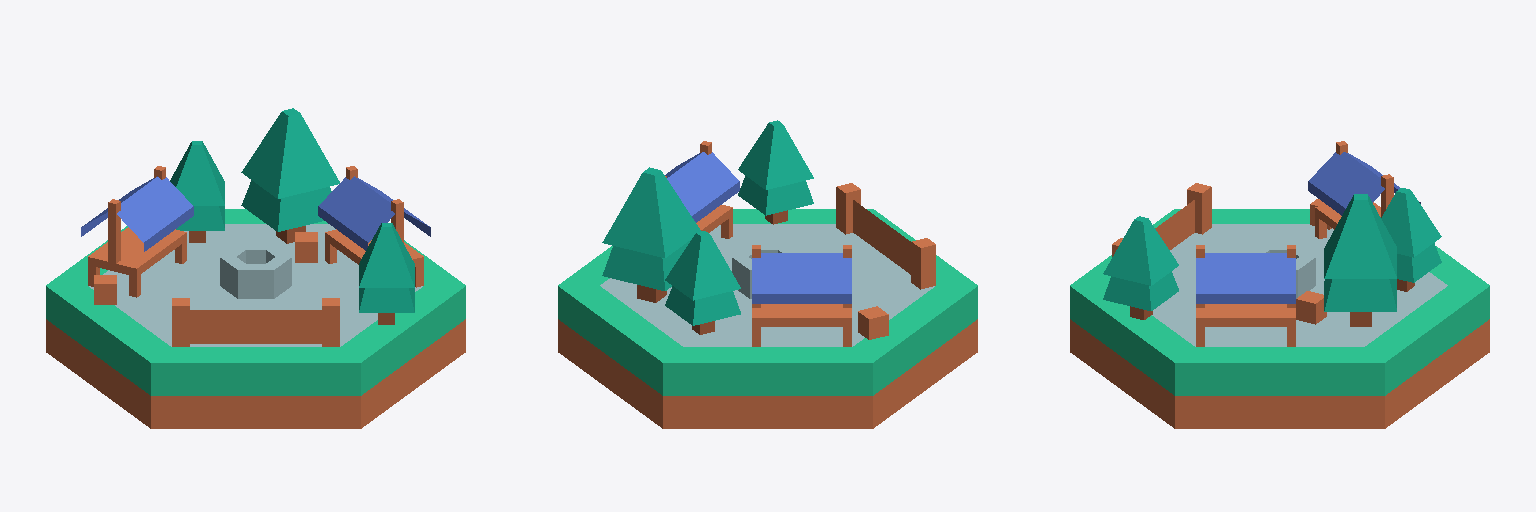
Rendered from building_market.obj.
3 views of the same model, side by side, from view 1: azimuth 30°, elevation 25°; view 2: azimuth 150°, elevation 25°; view 3: azimuth 270°, elevation 25° (orthographic).
Parts seen in each view (by area): view 1: building_market, tree, stall, fence, well, crate; view 2: building_market, tree, stall, fence, well, crate; view 3: building_market, tree, stall, fence, well, crate.
Part boxes in pixels (x1,y1,x2,y2): building_market: (46,209,465,428); tree: (170,108,414,324); stall: (81,166,430,297); fence: (172,298,339,346); well: (220,243,291,298); crate: (94,232,317,304); building_market: (558,209,977,428); tree: (602,120,813,334); stall: (665,141,851,346); fence: (836,183,935,289); well: (732,243,798,298); crate: (858,306,888,339); building_market: (1070,209,1489,428); tree: (1103,188,1441,326); stall: (1196,141,1420,346); fence: (1112,183,1211,256); well: (1249,243,1315,298); crate: (1296,199,1331,324).
Bounding box in the file's own units: 1 × 0.58 × 1.15.